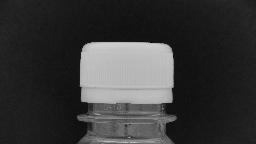Loose Cap: (70, 82, 182, 126)
